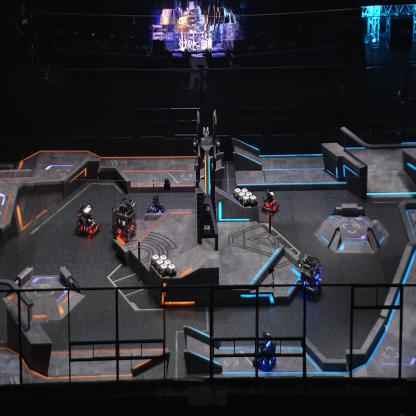car: (110, 196, 138, 243), (297, 254, 322, 297), (251, 332, 276, 375), (75, 204, 101, 238), (146, 191, 165, 221), (260, 188, 280, 216)
